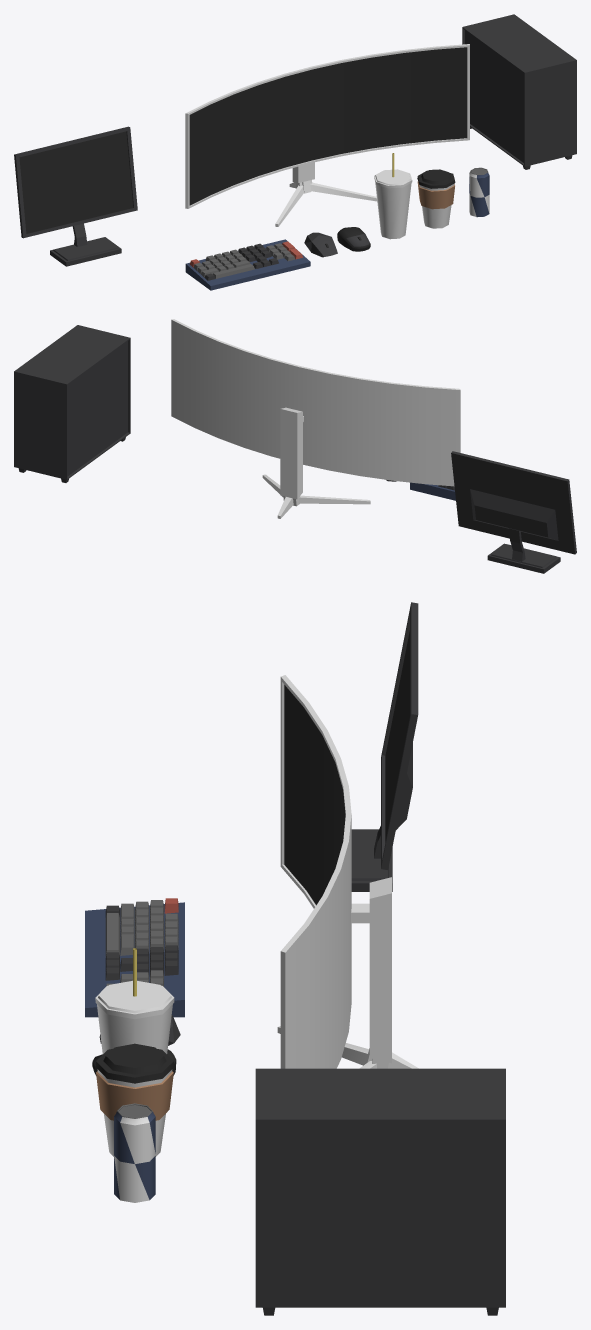
The model's file is prop_stage2.fbx.
3 renders of one model, top to bottom at view 1: azimuth 30°, elevation 25°; view 2: azimuth 150°, elevation 25°; view 3: azimuth 270°, elevation 25°, orthographic. The views are drawn at different scales.
Visible parts, largest first — view 1: monitor_2, desktop, monitor_1, keyboard, drink_1, drink_2, drink_3, mouse_2, mouse_1; view 2: monitor_2, desktop, monitor_1, keyboard; view 3: desktop, monitor_2, keyboard, monitor_1, drink_2, drink_1, drink_3.
Boxes of the visible parts, <box> form: monitor_2: <box>185,44,469,226</box>; desktop: <box>462,14,576,169</box>; monitor_1: <box>14,126,137,266</box>; keyboard: <box>185,239,310,290</box>; drink_1: <box>374,153,412,239</box>; drink_2: <box>417,169,455,228</box>; drink_3: <box>469,167,489,217</box>; mouse_2: <box>337,227,370,251</box>; mouse_1: <box>304,232,337,257</box>; monitor_2: <box>171,319,460,518</box>; desktop: <box>14,325,130,482</box>; monitor_1: <box>451,451,576,573</box>; keyboard: <box>410,482,455,500</box>; desktop: <box>255,1068,505,1315</box>; monitor_2: <box>277,675,418,1068</box>; keyboard: <box>85,898,184,1017</box>; monitor_1: <box>351,602,418,891</box>; drink_2: <box>95,1043,174,1156</box>; drink_1: <box>95,948,174,1054</box>; drink_3: <box>114,1103,155,1202</box>.
Size of the model in its own units: 505 by 124 by 176.
1 material, 1 textured.
